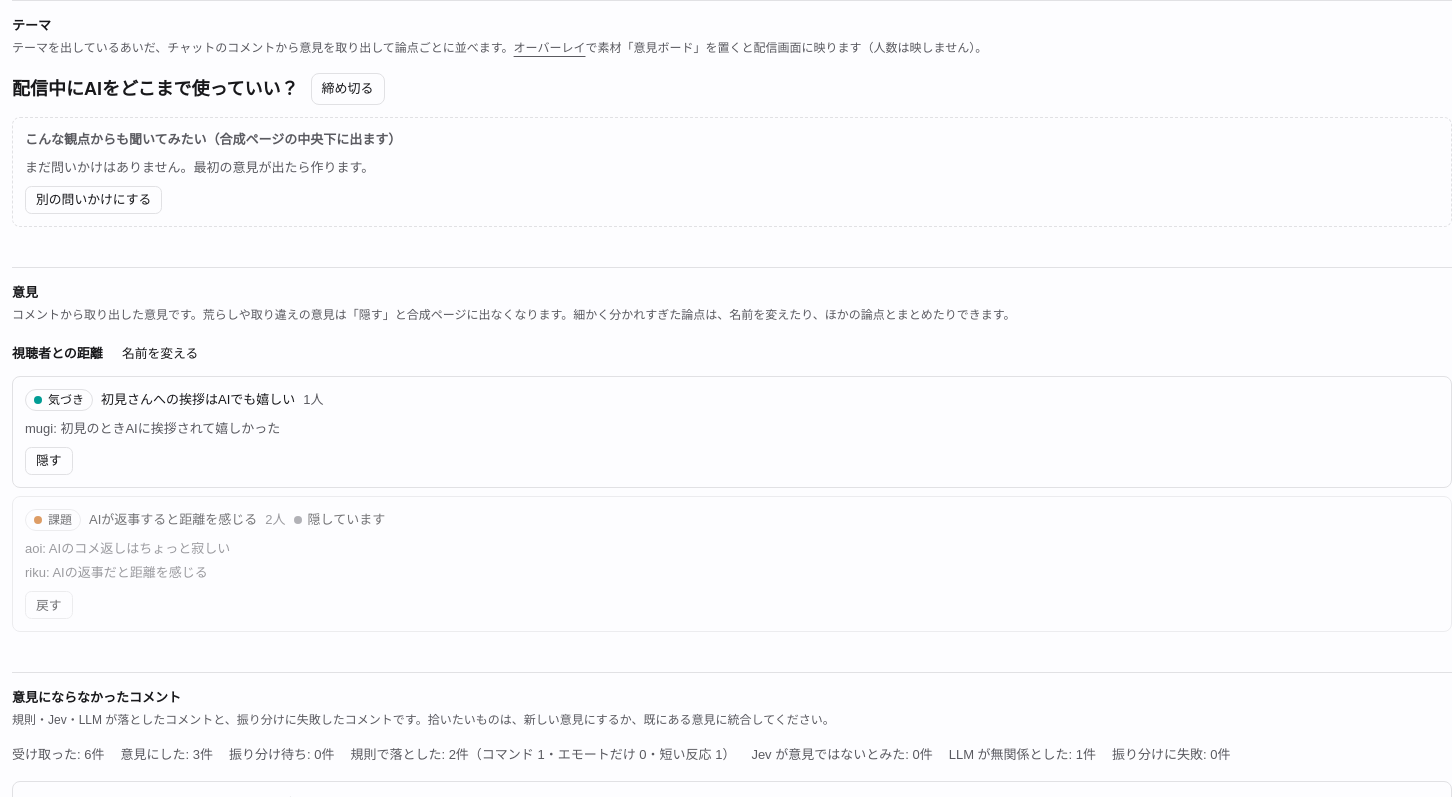
it: 問いかけ › 問いかけを作れなければ理由を出す
Click the button "別の問いかけにする". click: (94, 200)
box: [25,186,162,214]
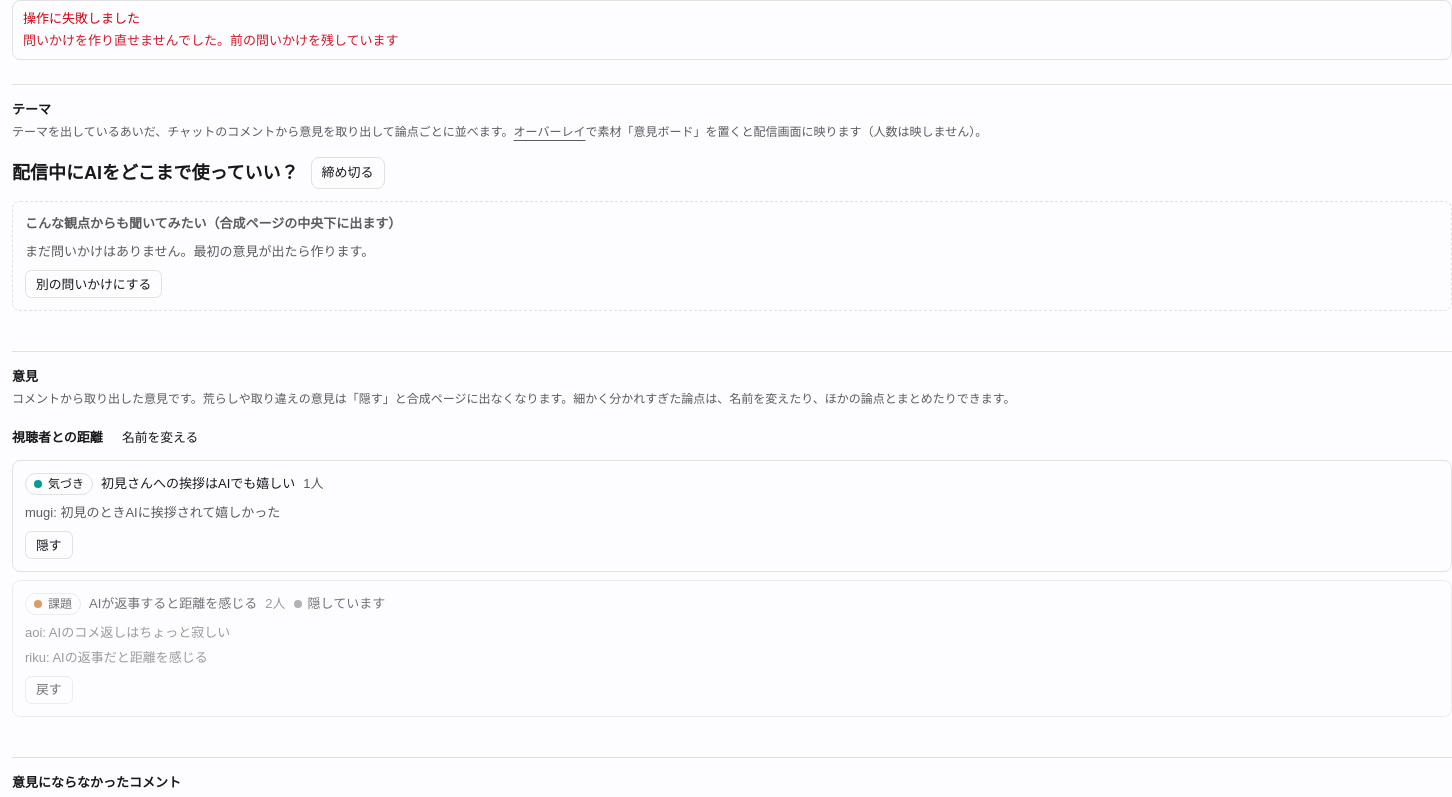
Result: the text "問いかけを作り直せませんでした。前の問いかけを残しています" is shown at [23,33,399,48]
